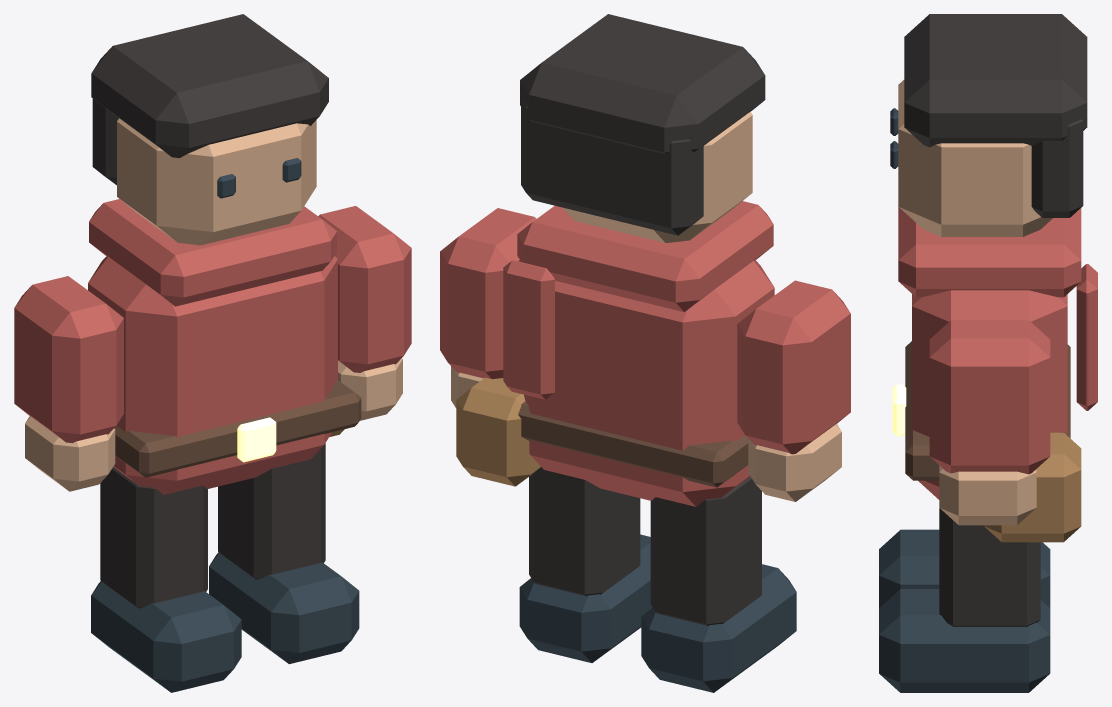
Rendered from character-enemy.glb.
3 views of the same model, side by side, from view 1: azimuth 30°, elevation 25°; view 2: azimuth 150°, elevation 25°; view 3: azimuth 270°, elevation 25° (orthographic). The views are drawn at different scales.
Parts seen in each view (by area): view 1: tunic.001, hair.001, head.001, sleeve.002, scarf.001, leg.002, boot.002, sleeve.003, boot.003, leg.003, belt.001, hand.002 (+3 smaller); view 2: tunic.001, hair.001, sleeve.002, scarf.001, hair-back.001, leg.002, leg.003, sleeve.003, boot.002, boot.003, belt.001, scarf-tail.001 (+3 smaller); view 3: hair.001, sleeve.003, boot.003, head.001, scarf.001, leg.003, tunic.001, satchel.001, hand.003, boot.002, hair-back.001, scarf-tail.001 (+2 smaller).
Part boxes in pixels (x1,y1,x2,y2): tunic.001: [88, 256, 337, 494]; hair.001: [91, 14, 328, 158]; head.001: [117, 118, 316, 245]; sleeve.002: [14, 276, 123, 443]; scarf.001: [89, 199, 336, 306]; leg.002: [100, 467, 207, 608]; boot.002: [91, 581, 241, 692]; sleeve.003: [318, 206, 411, 372]; boot.003: [209, 552, 359, 664]; leg.003: [218, 443, 325, 579]; belt.001: [114, 380, 361, 477]; hand.002: [25, 416, 115, 491]; tunic.001: [518, 260, 774, 506]; hair.001: [520, 14, 765, 154]; sleeve.002: [737, 280, 850, 454]; scarf.001: [517, 201, 773, 311]; hair-back.001: [521, 99, 703, 235]; leg.002: [650, 476, 761, 625]; leg.003: [529, 467, 640, 595]; sleeve.003: [440, 208, 536, 379]; boot.002: [641, 564, 796, 692]; boot.003: [519, 534, 652, 662]; belt.001: [518, 401, 748, 487]; scarf-tail.001: [503, 260, 554, 399]; hair.001: [904, 14, 1087, 147]; sleeve.003: [929, 320, 1050, 474]; boot.003: [879, 589, 1050, 692]; head.001: [898, 80, 1052, 236]; scarf.001: [898, 207, 1081, 297]; leg.003: [939, 508, 1040, 626]; tunic.001: [912, 290, 1067, 499]; satchel.001: [984, 432, 1081, 542]; hand.003: [939, 465, 1036, 525]; boot.002: [879, 529, 1050, 607]; hair-back.001: [1031, 119, 1083, 217]; scarf-tail.001: [1076, 264, 1097, 410].
Bounding box in the file's own units: 1.1 × 1.71 × 0.5625.
